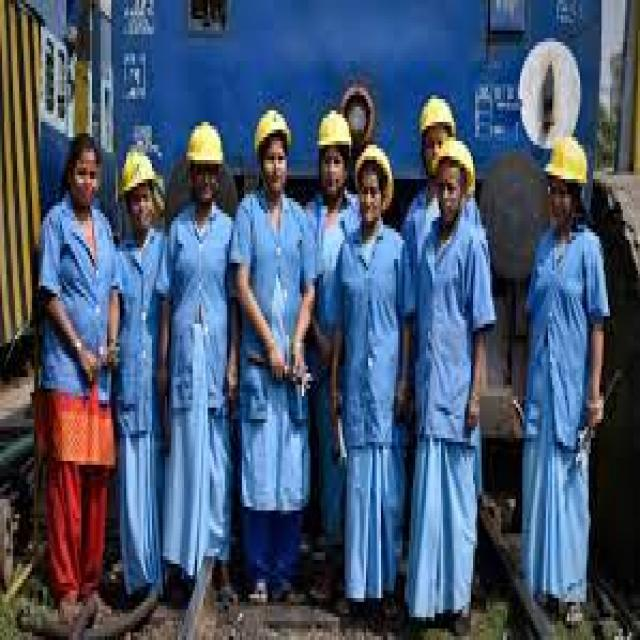Safety-Helmet: (113, 141, 165, 206), (542, 130, 590, 190), (248, 99, 296, 156), (184, 114, 227, 176), (313, 103, 353, 156), (413, 88, 456, 137)
